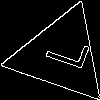L: (35, 30, 91, 72)
